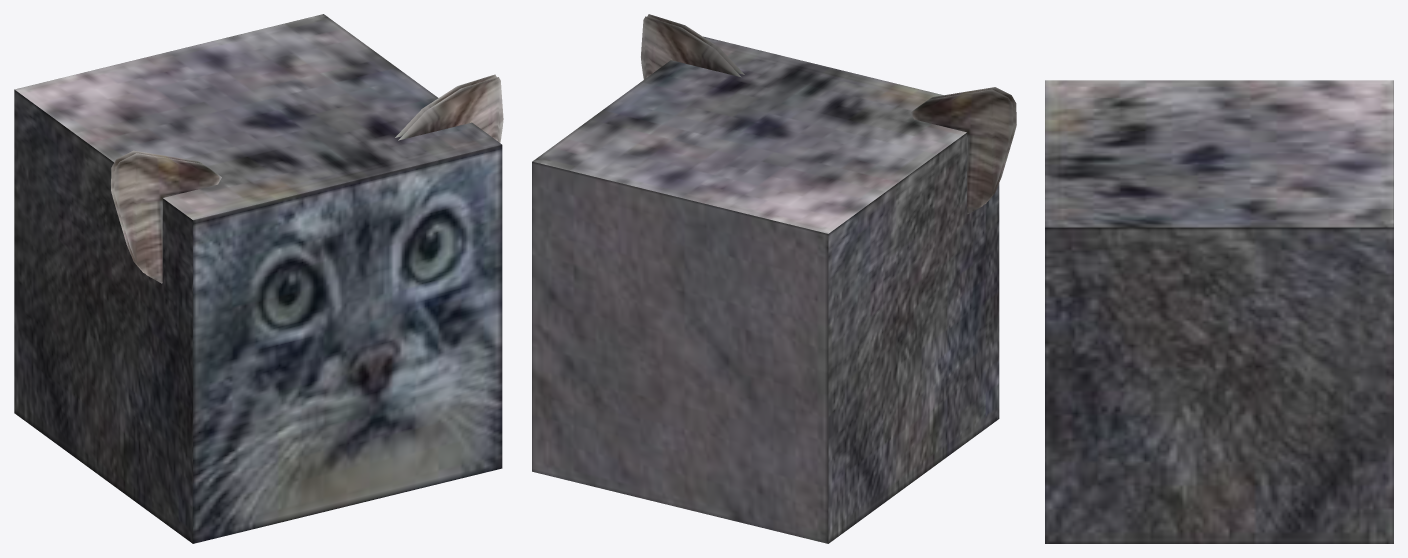
Rendered from SnepCube.fbx.
The picture shows the model from 3 angles, left to right: view 1: azimuth 30°, elevation 25°; view 2: azimuth 150°, elevation 25°; view 3: azimuth 270°, elevation 25°; orthographic projection. The views are drawn at different scales.
Visible parts, largest first — view 1: Cube; view 2: Cube; view 3: Cube.
Boxes of the visible parts, left/top/right/bottom form: Cube: left=14, top=14, right=503, bottom=543; Cube: left=532, top=14, right=1016, bottom=543; Cube: left=1045, top=80, right=1393, bottom=543.
Size of the model in its own units: 252 by 232 by 200.
